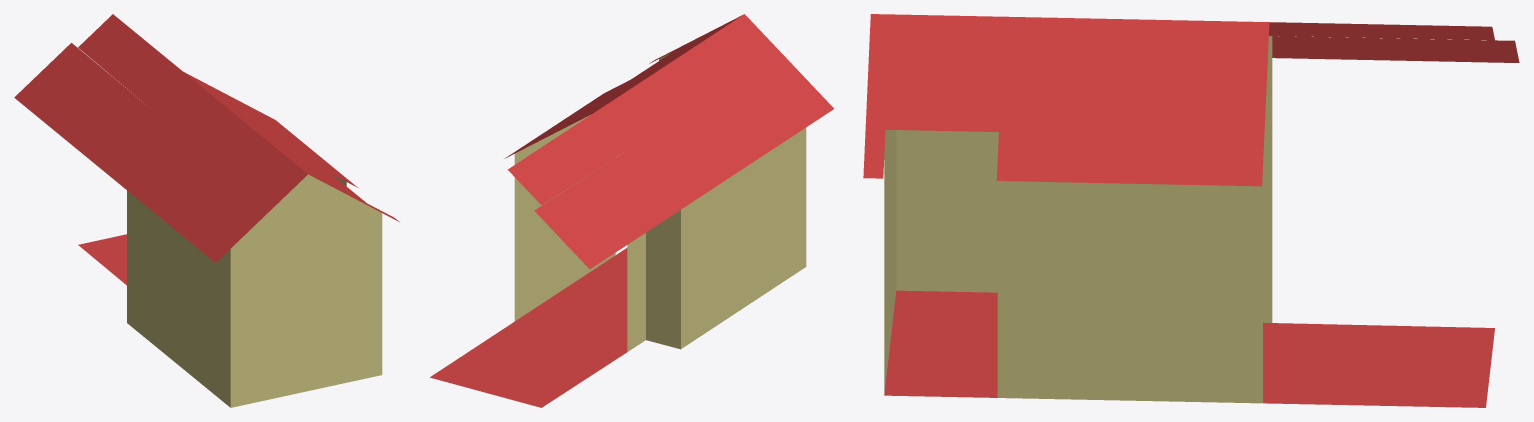
3 renders of one model, left to right at view 1: azimuth 30°, elevation 25°; view 2: azimuth 150°, elevation 25°; view 3: azimuth 270°, elevation 25°, orthographic. The views are drawn at different scales.
Size of the model in its own units: 12.13 by 24.68 by 13.51.
